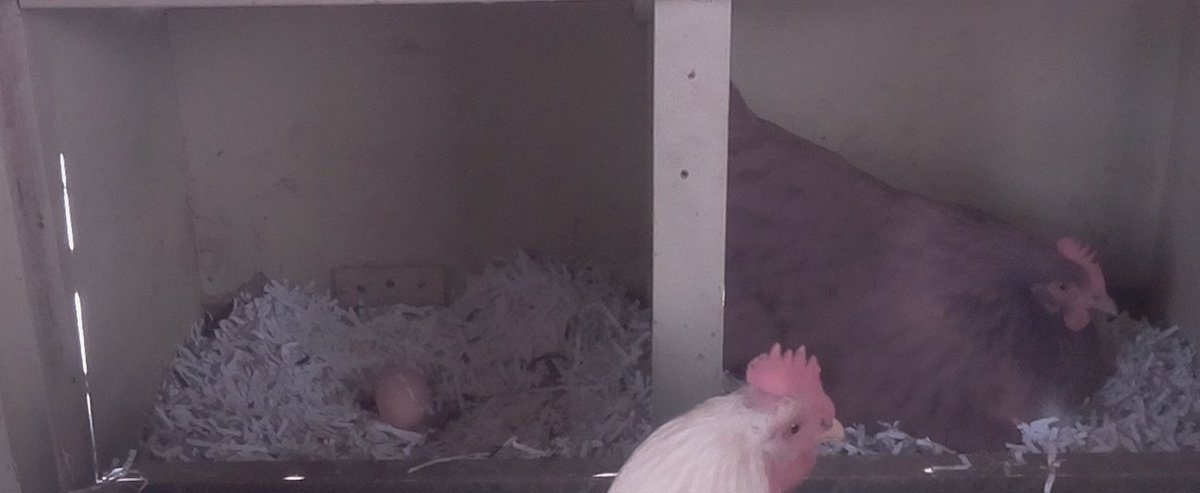egg: (371, 358, 441, 439)
hen: (731, 77, 1134, 447), (605, 342, 849, 493)
